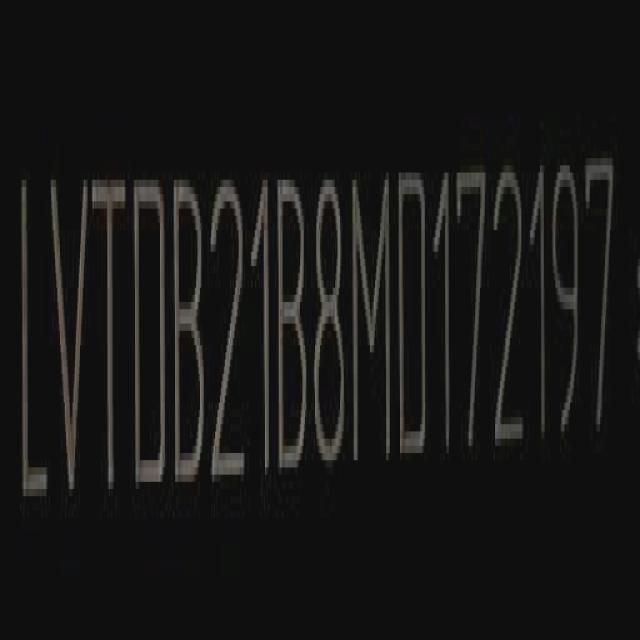1: (255, 178, 274, 489), (529, 158, 547, 452), (436, 170, 454, 464)
2: (211, 180, 247, 497), (495, 164, 528, 458)
7: (454, 158, 486, 460), (592, 152, 620, 444)
8: (313, 173, 346, 473)
9: (555, 163, 584, 450)
B: (176, 179, 208, 501), (276, 172, 309, 478)
D: (132, 170, 166, 503), (399, 168, 426, 471)
L: (16, 168, 46, 526)
M: (352, 167, 391, 467)
T: (97, 173, 127, 512)
V: (50, 169, 90, 515)
